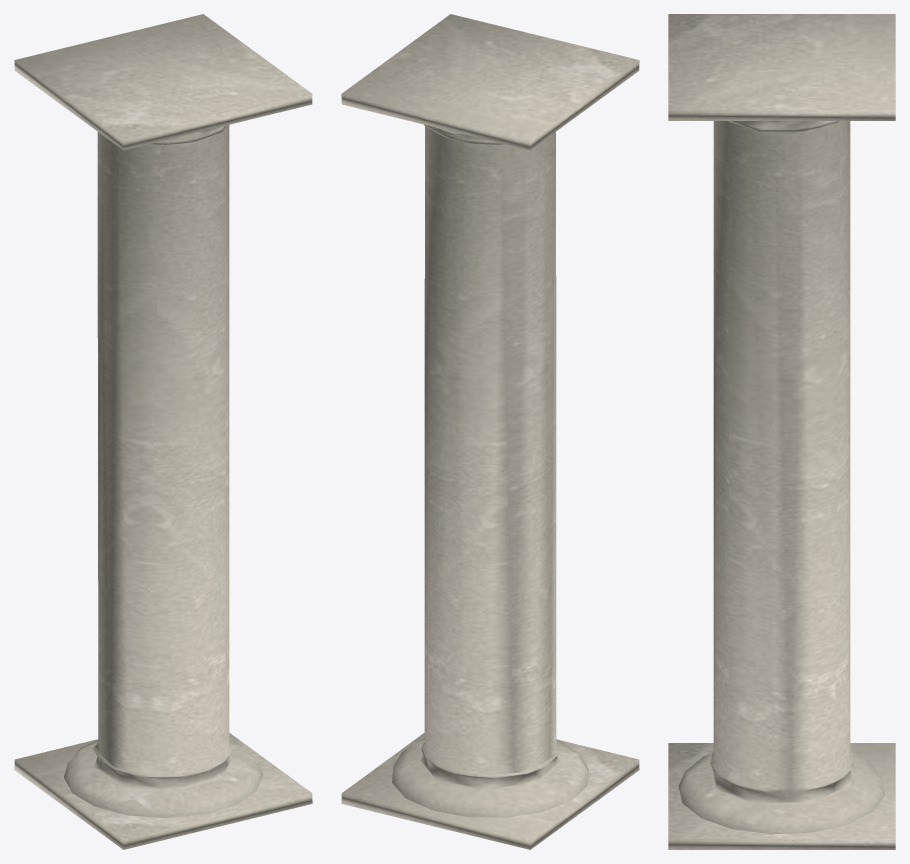
3 views of the same model, side by side, from view 1: azimuth 30°, elevation 25°; view 2: azimuth 150°, elevation 25°; view 3: azimuth 270°, elevation 25° (orthographic). The views are drawn at different scales.
Visible parts, largest first — view 1: AlabasterRoundPillar; view 2: AlabasterRoundPillar; view 3: AlabasterRoundPillar.
Boxes of the visible parts, x1,y1,x2,y2 form: AlabasterRoundPillar: (14, 14, 312, 849); AlabasterRoundPillar: (341, 14, 639, 849); AlabasterRoundPillar: (668, 14, 895, 849).
Size of what is drawn, in the model's own units: 0.8137 by 2.92 by 0.8137.
Materials: 1 (1 with a texture image).
